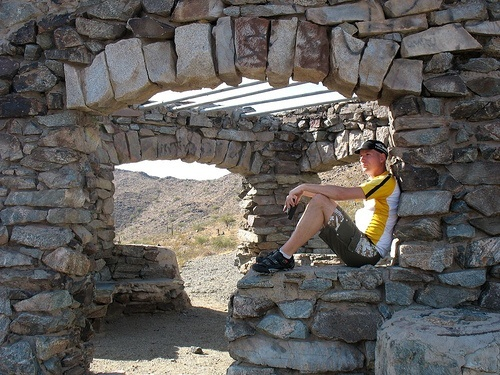head: (357, 137, 390, 180)
person: (243, 138, 400, 276)
